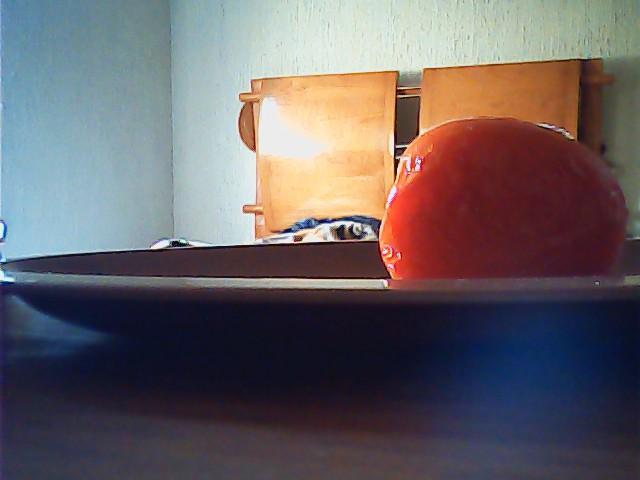maduro: (379, 115, 628, 281)
